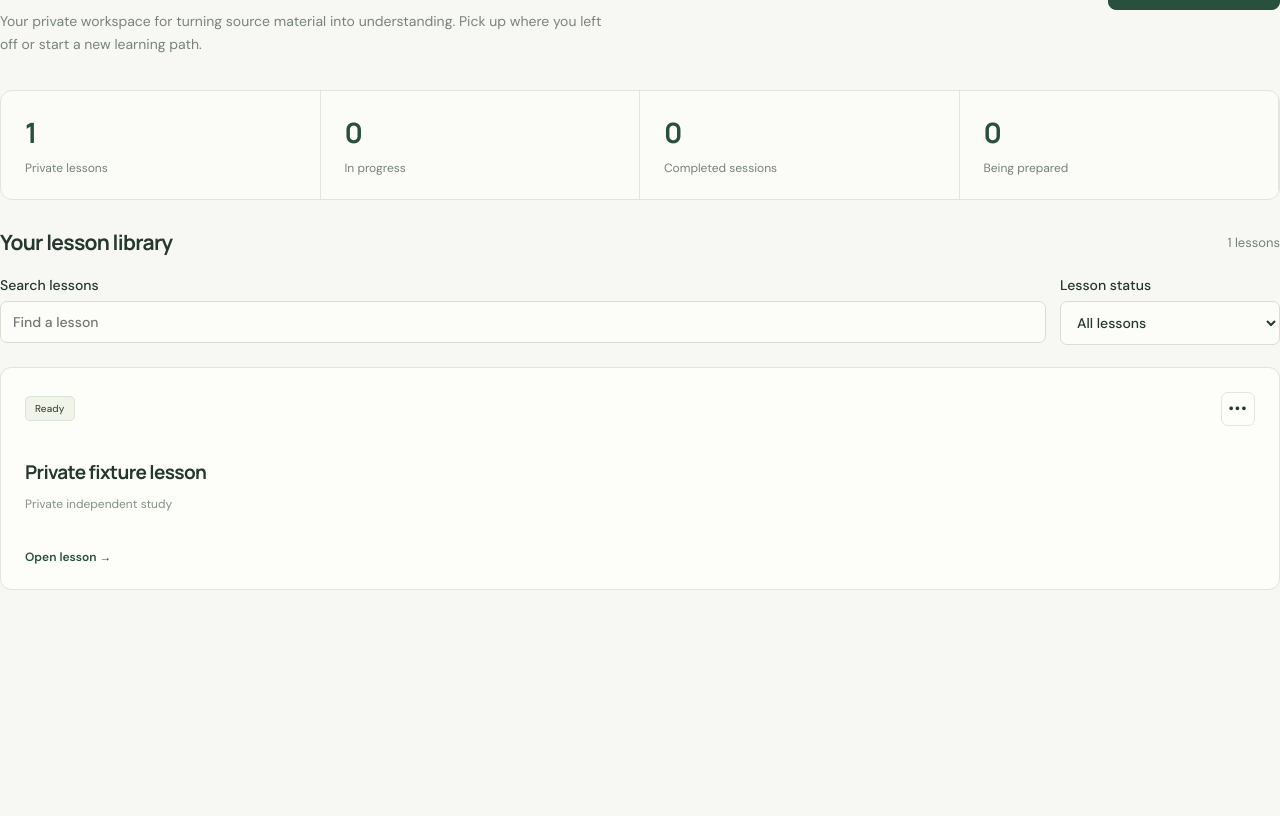
Test: places lesson deletion in options and requires confirmation
Click the heading named "Options for Private fixture lesson" at [1238, 408], box [1221, 392, 1255, 426]
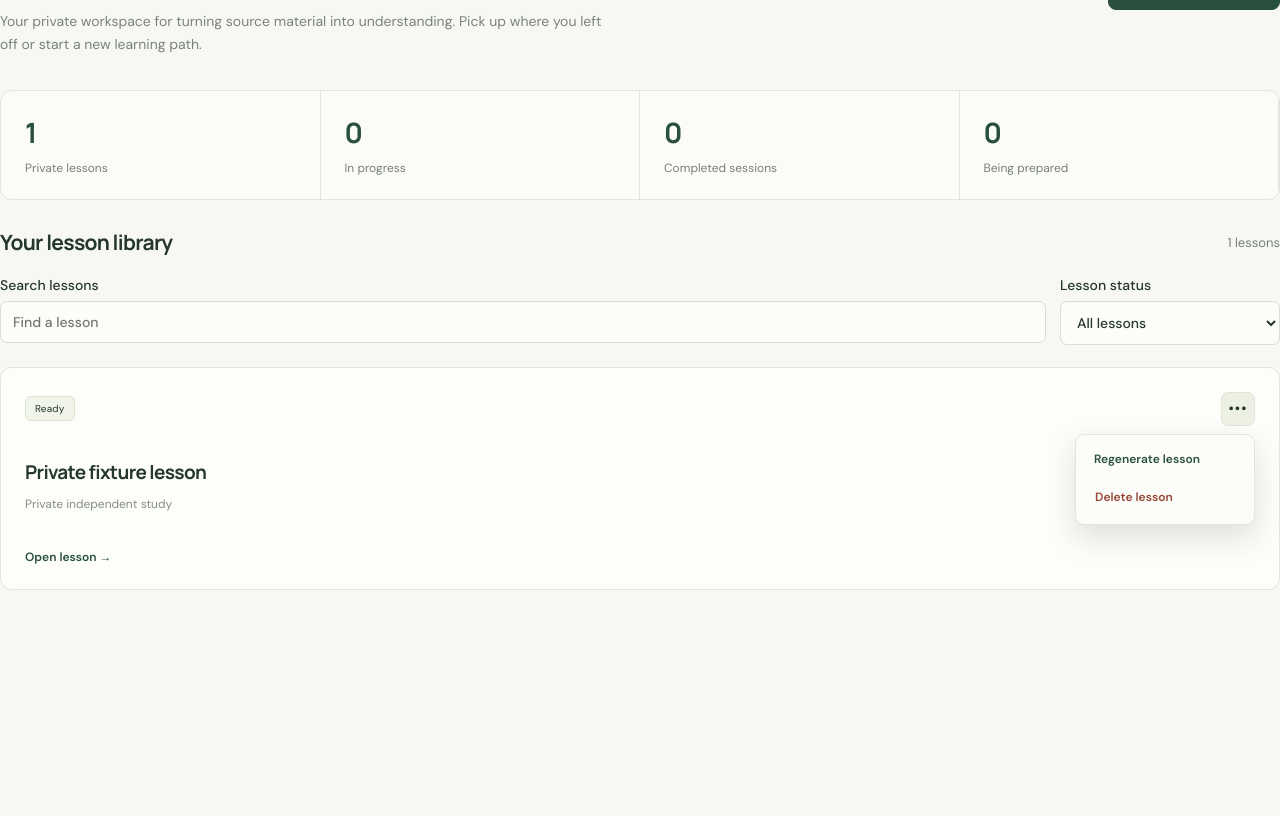
Click the button with aria-label "Delete lesson Private fixture lesson" at [1165, 498], box [1082, 478, 1248, 518]
(page scrolled)
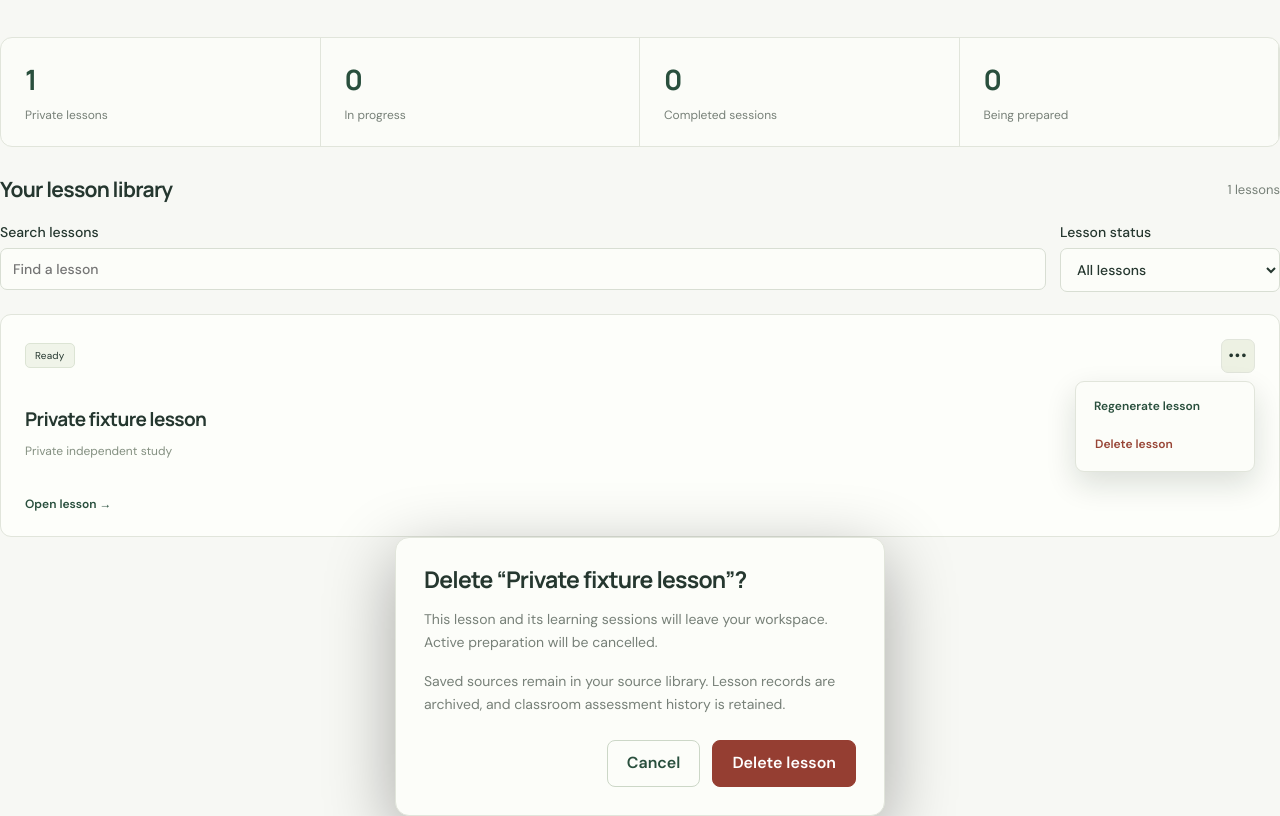
Click the button "Cancel" at [654, 764], box [607, 740, 700, 787]
(page scrolled)
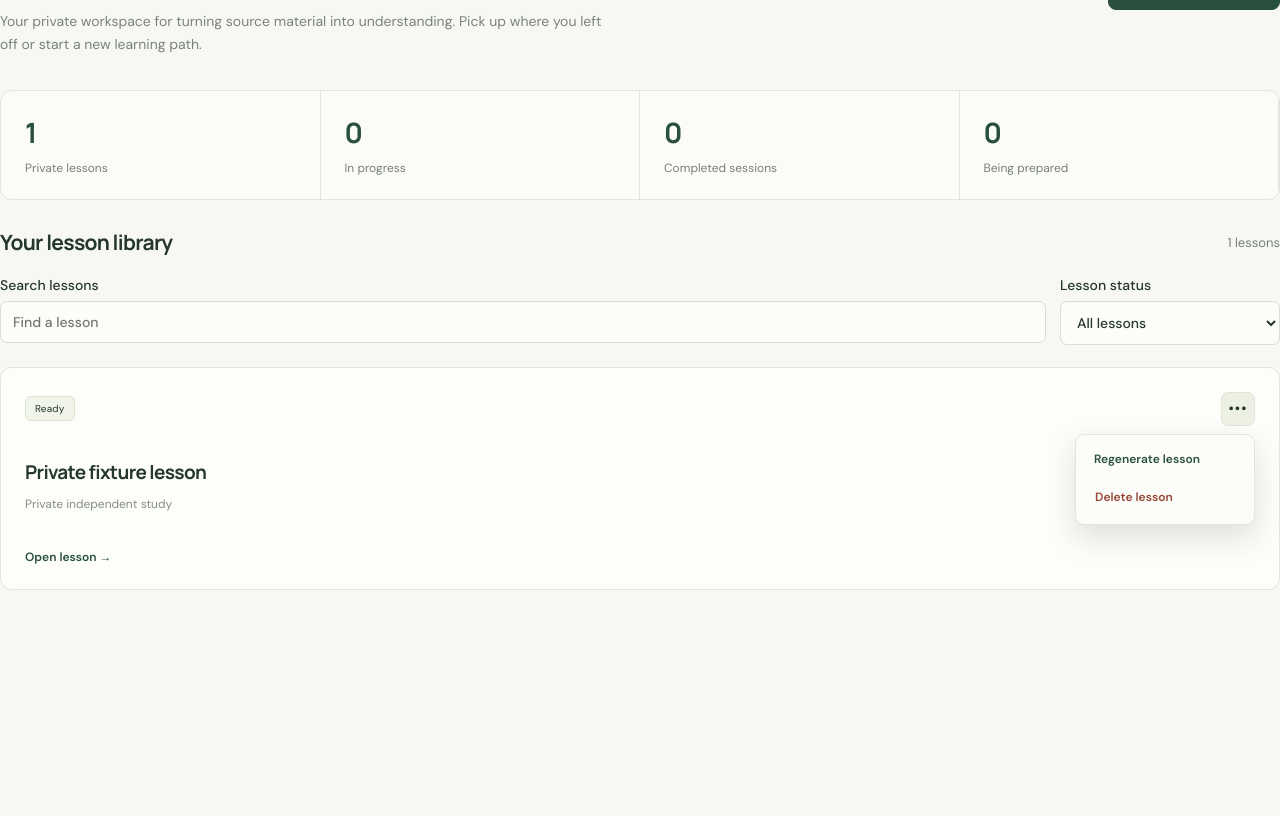
Click the button with aria-label "Delete lesson Private fixture lesson" at [1165, 498], box [1082, 478, 1248, 518]
(page scrolled)
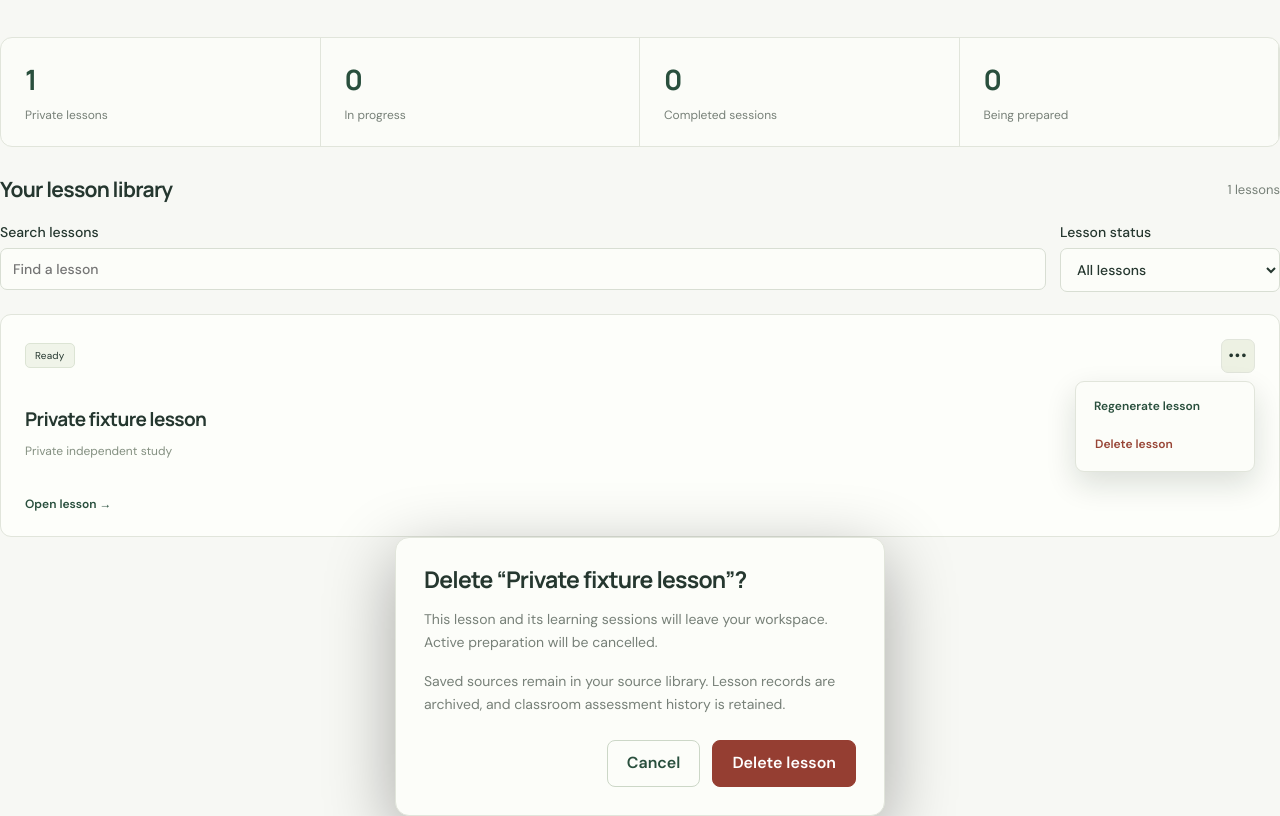
Click the button "Delete lesson" below "Delete “Private fixture lesson”?" at [784, 764], box [712, 740, 856, 787]
(page scrolled)
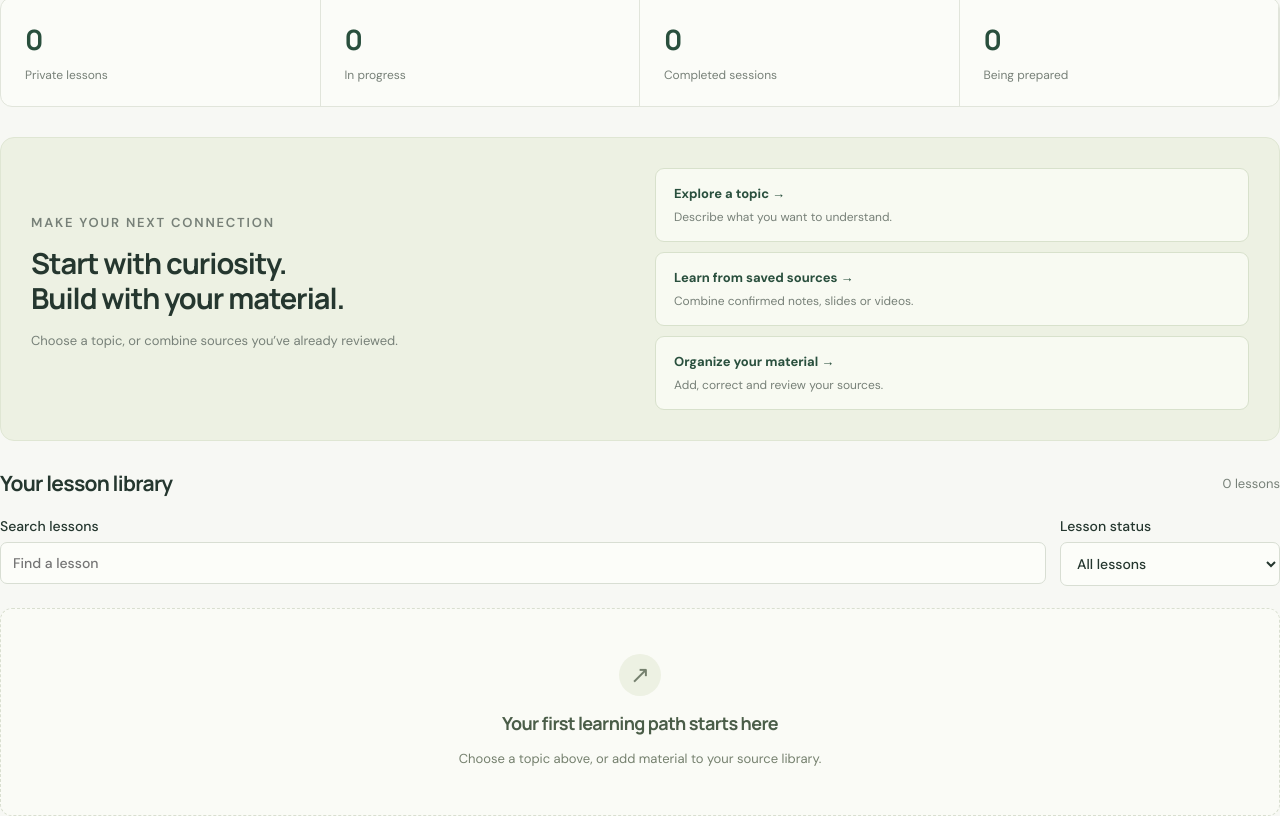
Expected: the heading "Your first learning path starts here" is shown, [502, 710, 778, 734]
